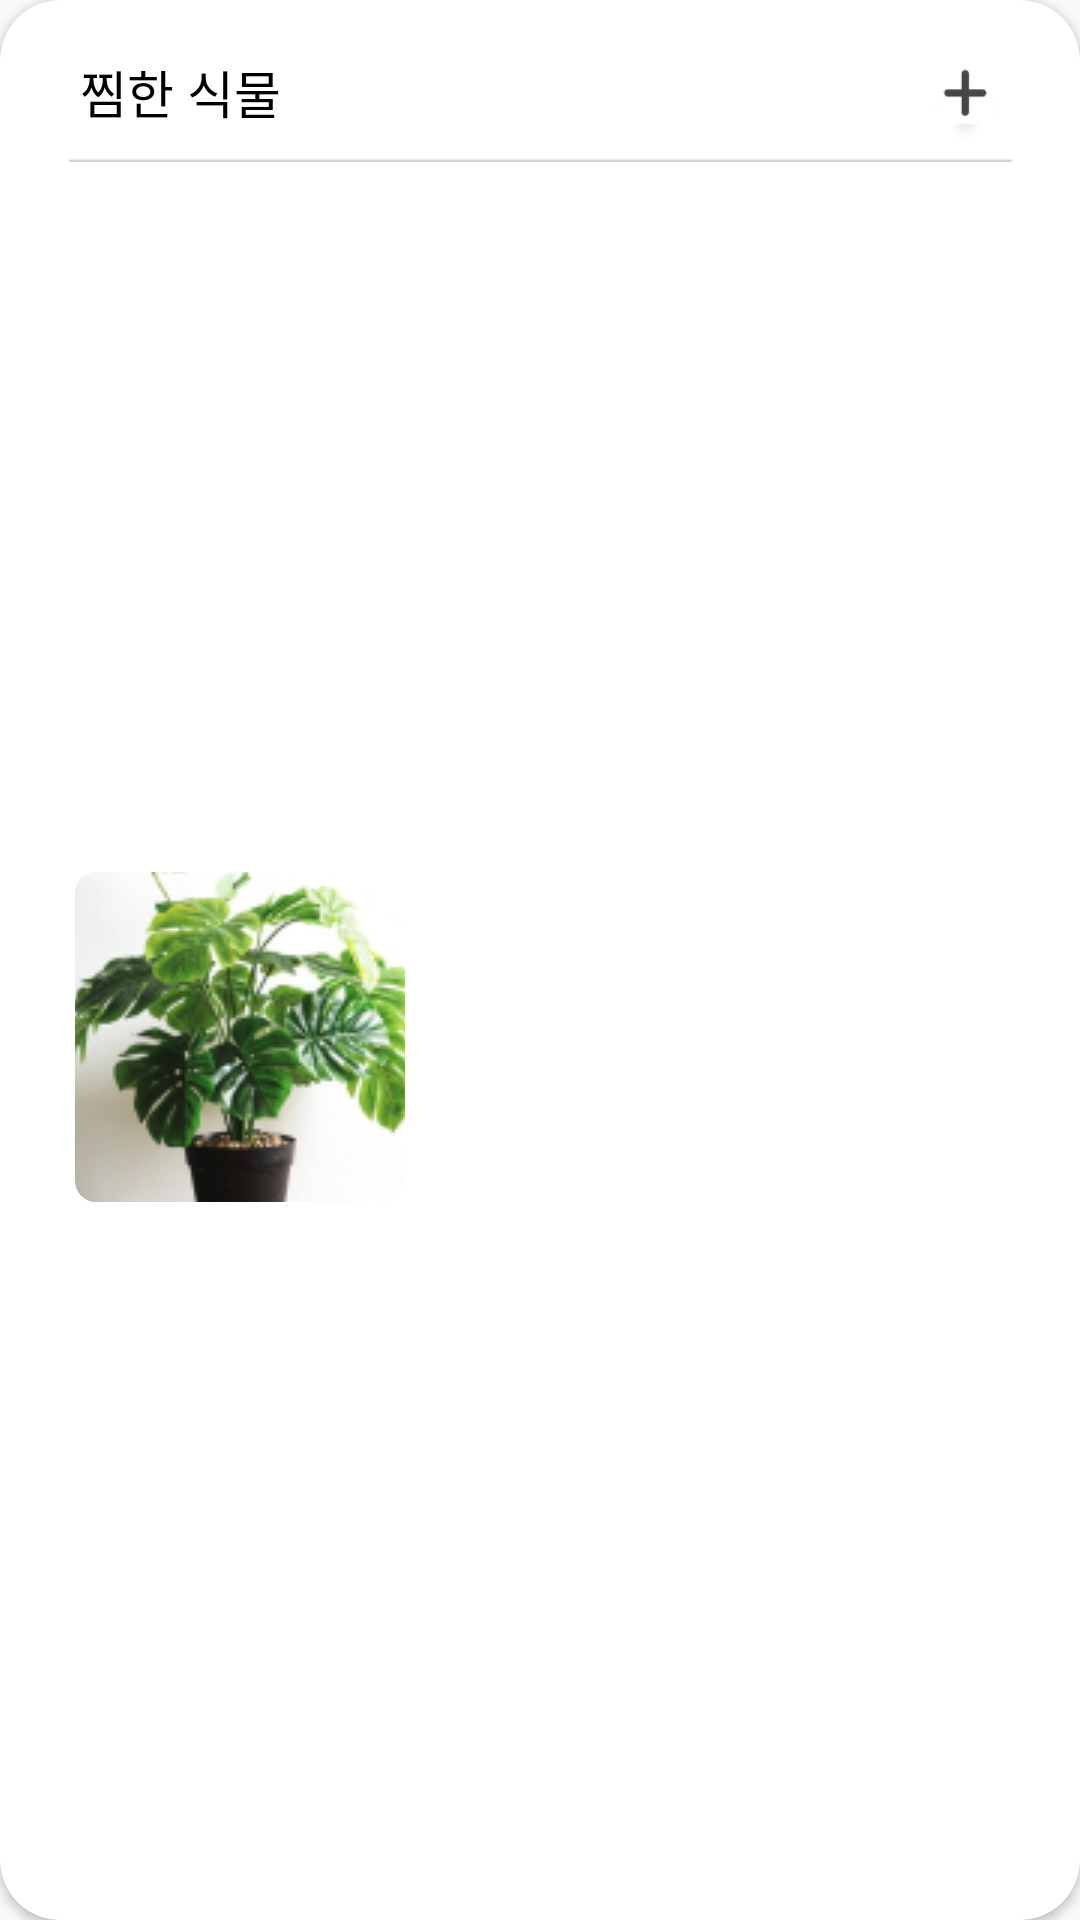

Where icons sit on this 1080 × 1920 app screen, as (left=x1, top=y1, right=x2, bottom=y2):
add: (left=943, top=69, right=987, bottom=116)
plant log: (left=75, top=872, right=405, bottom=1202)
